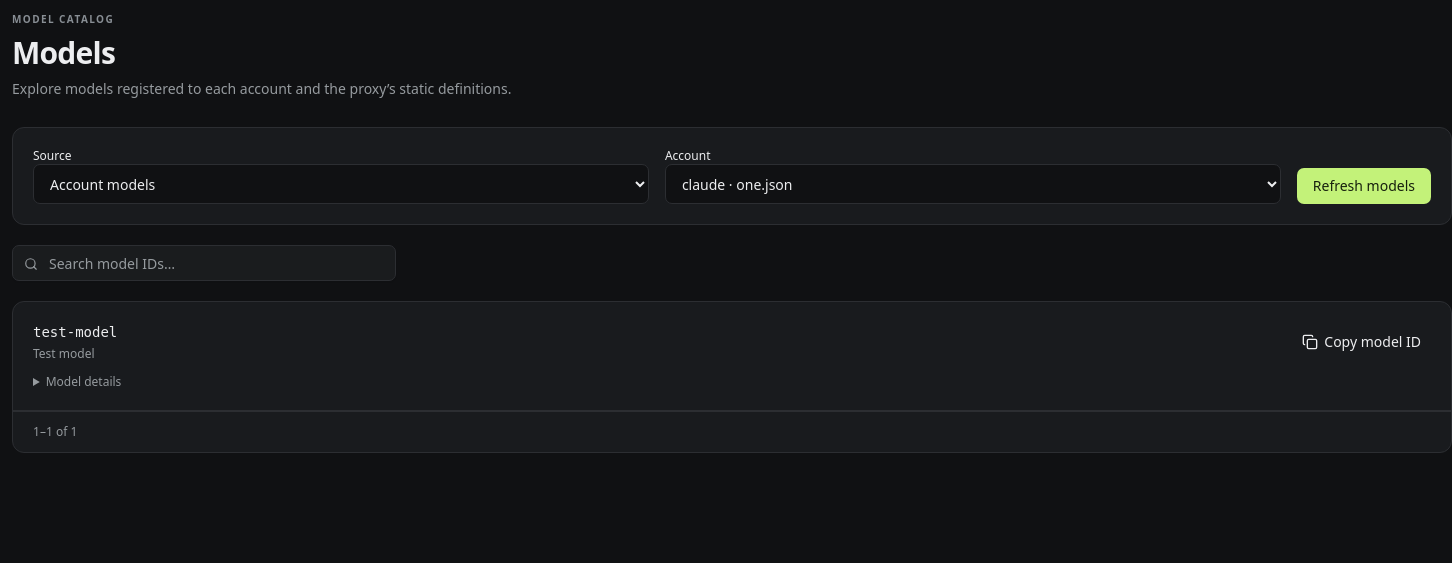
Scenario: loads the selected account automatically and explains empty search results
Expected: the heading "test-model" is shown, left=33, top=322, right=117, bottom=342
Type "missing" into the field named "Search models". click: (204, 263)
box: left=12, top=245, right=396, bottom=281
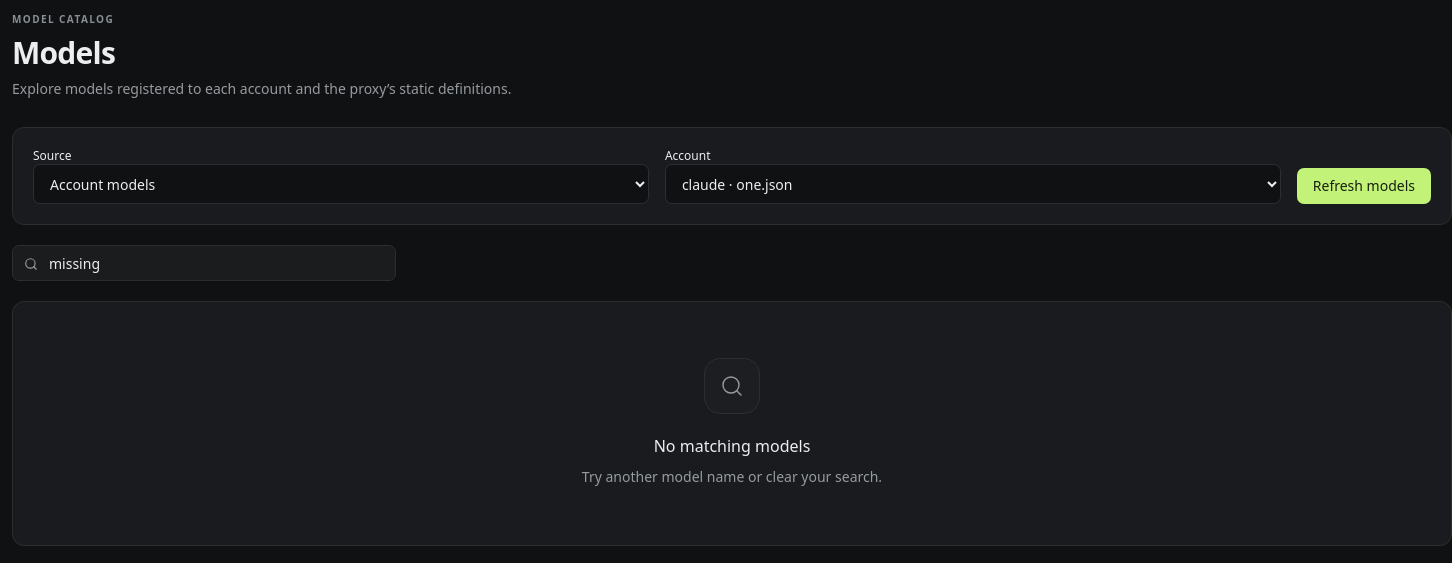
Result: the heading "No matching models" is shown at left=654, top=434, right=810, bottom=458
